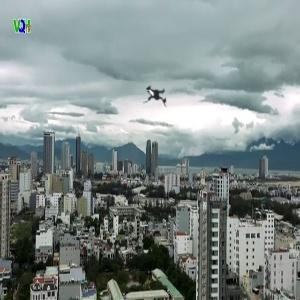drone: (132, 68, 186, 122)
